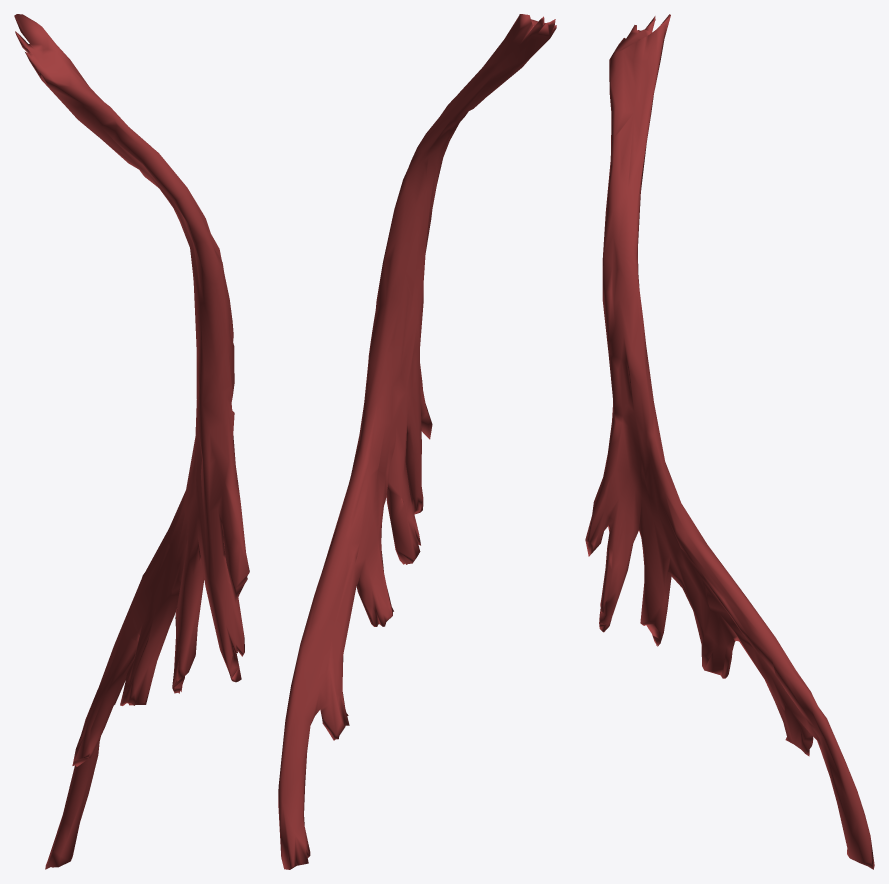
File: longissimus-capitis-muscle-r.glb
The picture shows the model from 3 angles, left to right: view 1: azimuth 30°, elevation 25°; view 2: azimuth 150°, elevation 25°; view 3: azimuth 270°, elevation 25°; orthographic projection. The views are drawn at different scales.
Parts seen in each view (by area): view 1: Longissimus capitis muscle.r; view 2: Longissimus capitis muscle.r; view 3: Longissimus capitis muscle.r.
Part boxes in pixels (left/top/right/bottom): Longissimus capitis muscle.r: left=14, top=14, right=249, bottom=869; Longissimus capitis muscle.r: left=278, top=14, right=556, bottom=869; Longissimus capitis muscle.r: left=585, top=14, right=874, bottom=869.
Size of the model in its own units: 0.0353 by 0.1572 by 0.0522.
